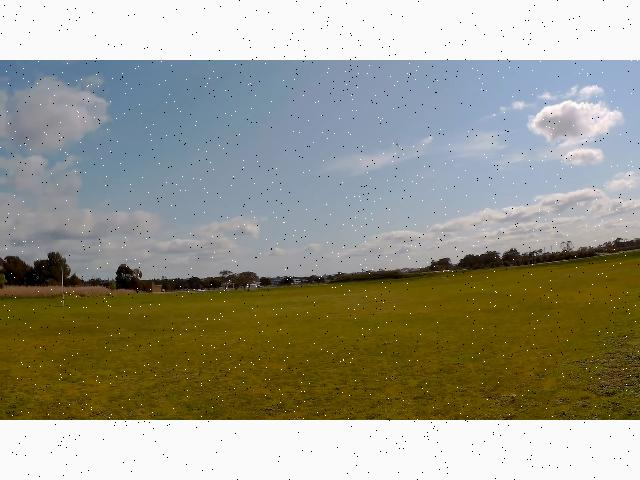Anti-Drone: (383, 131, 413, 154)
